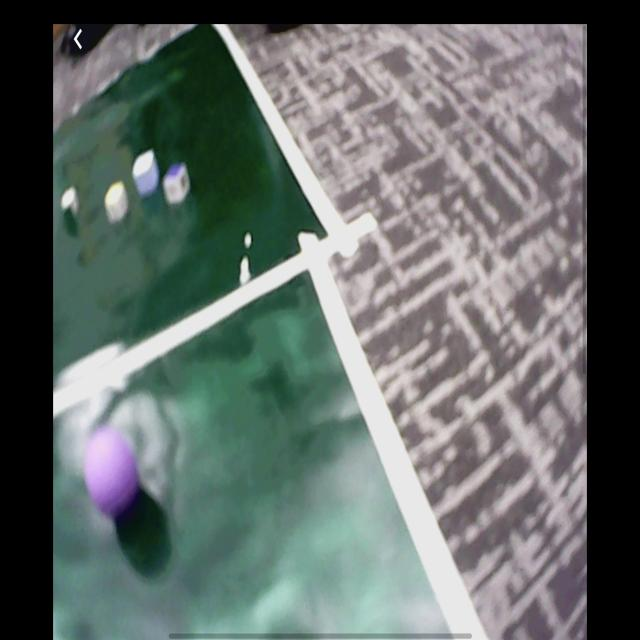ball: (85, 430, 140, 522)
